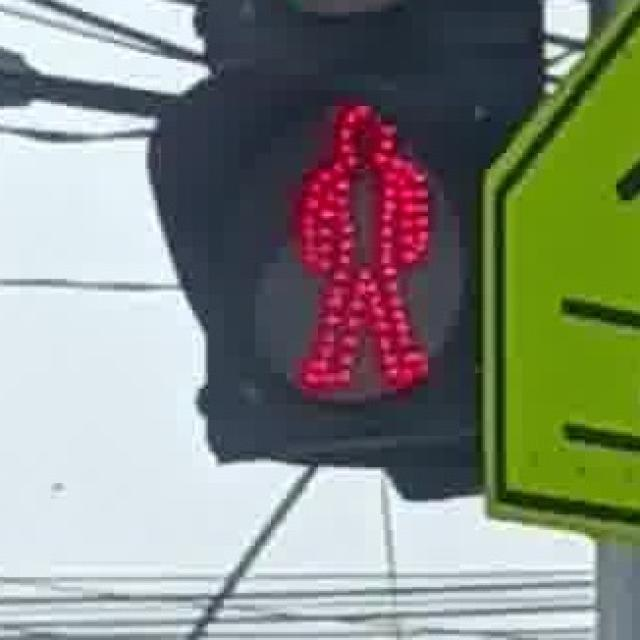red-crossing: (250, 82, 453, 404)
